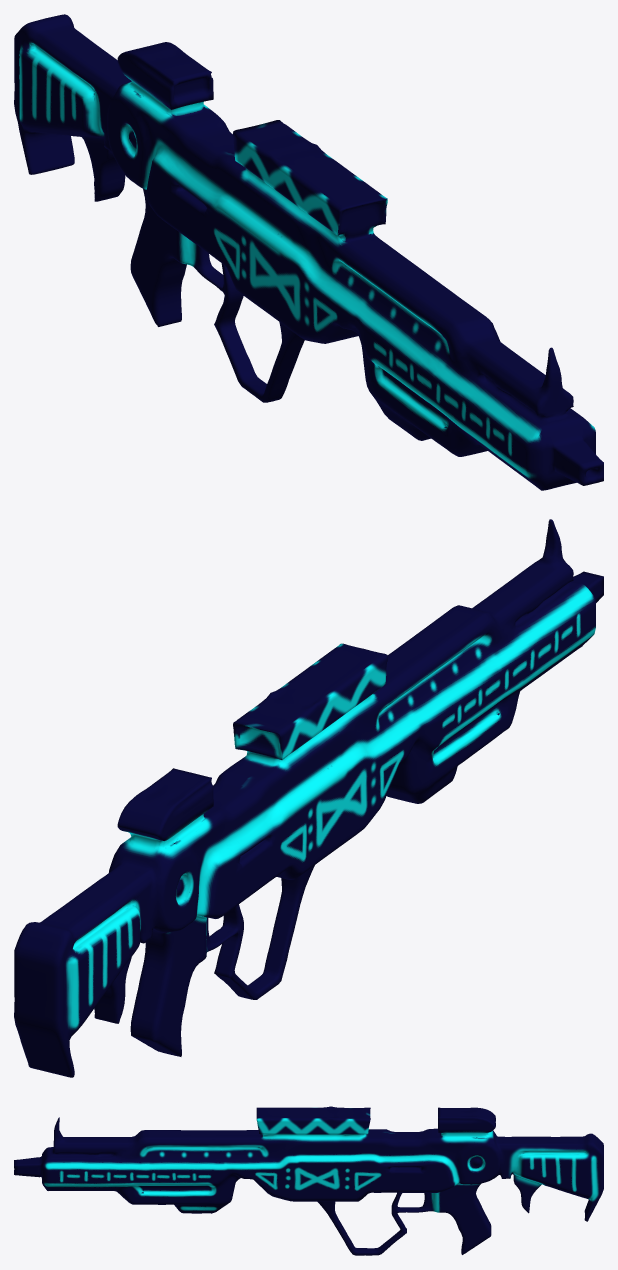
The model's file is ВинтовкаТ.fbx.
3 views of the same model, one above another, from view 1: azimuth 30°, elevation 25°; view 2: azimuth 150°, elevation 25°; view 3: azimuth 270°, elevation 25° (orthographic). The views are drawn at different scales.
Visible parts, largest first — view 1: model; view 2: model; view 3: model.
Boxes of the visible parts, x1,y1,x2,y2 form: model: (14, 14, 603, 490); model: (14, 519, 603, 1077); model: (14, 1106, 603, 1255).
Size of the model in its own units: 13.49 by 50.23 by 190.
